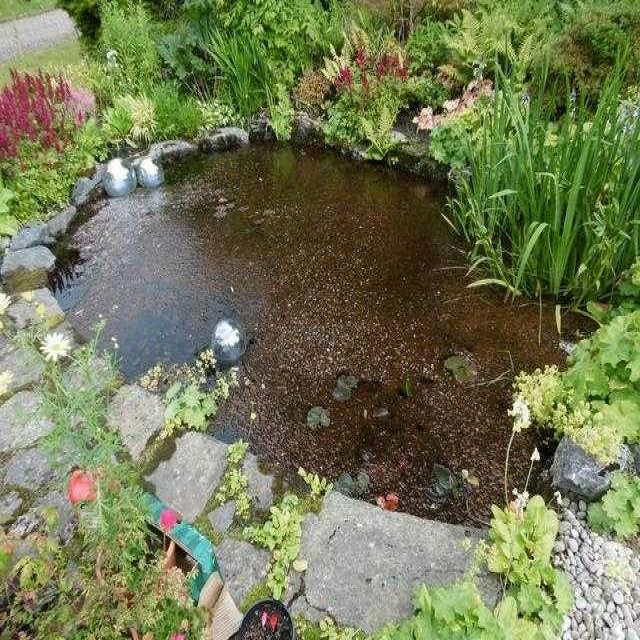Ponds: (1, 113, 640, 633)
